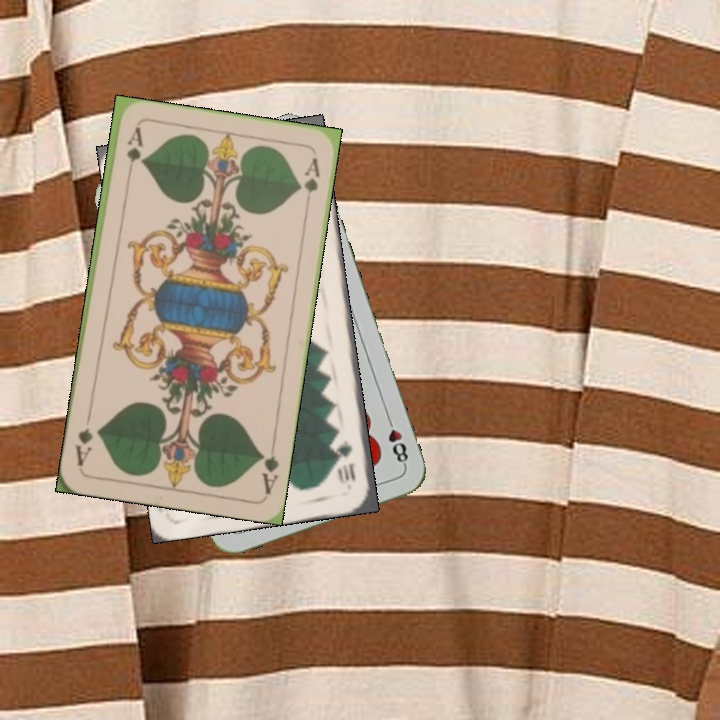G10: (334, 436, 358, 485)
GA: (256, 437, 281, 497), (122, 123, 144, 182)
H8: (382, 412, 411, 469)
